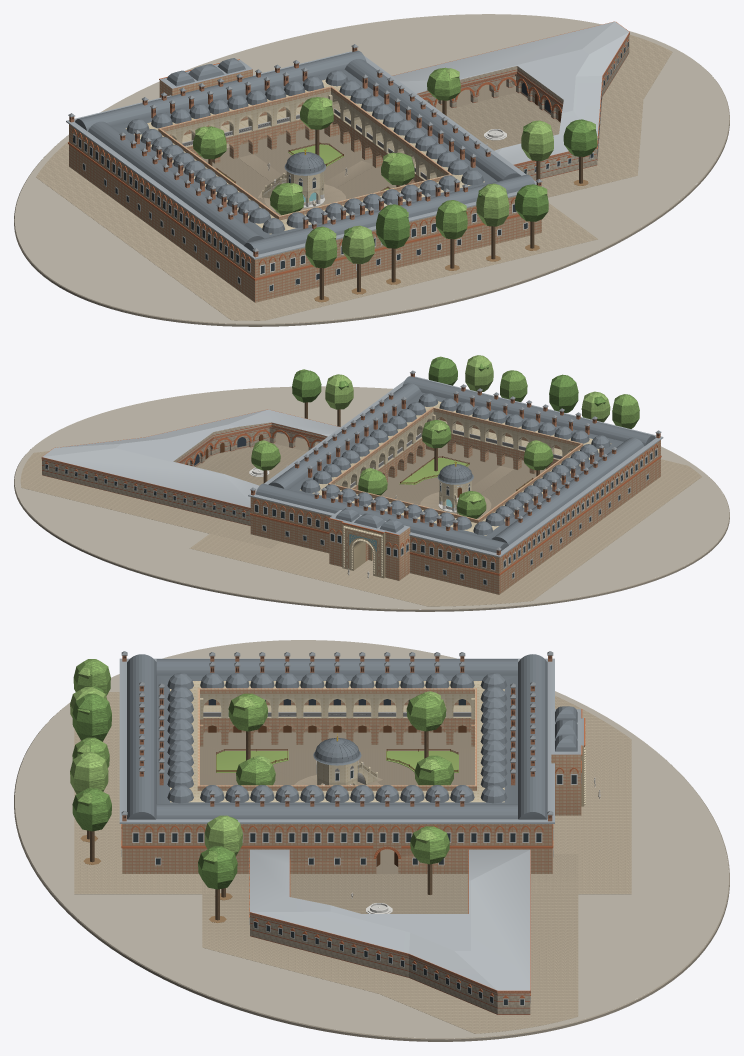
File: koza-han_v13_sunum.glb
3 renders of one model, top to bottom at view 1: azimuth 30°, elevation 25°; view 2: azimuth 150°, elevation 25°; view 3: azimuth 270°, elevation 25°, orthographic. The views are drawn at different scales.
Visible parts, largest first — view 1: Zemin_Kaide, Cevre_Doseme, Cati, Govde_Dis, Ic_Koza, Kubbe_Avlu, Avlu_Zemin, Avlu_Revak, Baca, Avlu_Agac, Cephe, Portal (+12 smaller); view 2: Zemin_Kaide, Cevre_Doseme, Ic_Koza, Cati, Govde_Dis, Kubbe_Avlu, Avlu_Zemin, Avlu_Revak, Portal, Baca, Avlu_Agac, Cephe (+12 smaller); view 3: Zemin_Kaide, Cevre_Doseme, Cati, Ic_Koza, Govde_Dis, Avlu_Zemin, Kubbe_Avlu, Avlu_Revak, Avlu_Agac, Baca, Cephe, Portal (+11 smaller).
Boxes of the visible parts, bbox=[...] form: Zemin_Kaide: bbox=[14, 14, 729, 326]; Cevre_Doseme: bbox=[36, 35, 672, 320]; Cati: bbox=[66, 50, 542, 259]; Govde_Dis: bbox=[69, 69, 541, 302]; Ic_Koza: bbox=[392, 21, 629, 180]; Kubbe_Avlu: bbox=[126, 70, 483, 233]; Avlu_Zemin: bbox=[201, 76, 560, 215]; Avlu_Revak: bbox=[125, 79, 484, 234]; Baca: bbox=[68, 44, 542, 257]; Avlu_Agac: bbox=[193, 67, 460, 215]; Cephe: bbox=[72, 92, 528, 291]; Portal: bbox=[159, 58, 252, 97]; Zemin_Kaide: bbox=[14, 386, 729, 611]; Cevre_Doseme: bbox=[20, 451, 701, 606]; Ic_Koza: bbox=[41, 409, 340, 525]; Cati: bbox=[248, 376, 663, 557]; Govde_Dis: bbox=[250, 392, 660, 594]; Kubbe_Avlu: bbox=[300, 393, 610, 535]; Avlu_Zemin: bbox=[195, 432, 545, 519]; Avlu_Revak: bbox=[300, 401, 611, 535]; Portal: bbox=[328, 508, 410, 580]; Baca: bbox=[250, 370, 661, 555]; Avlu_Agac: bbox=[251, 419, 553, 518]; Cephe: bbox=[253, 444, 657, 585]; Zemin_Kaide: bbox=[14, 640, 729, 1041]; Cevre_Doseme: bbox=[74, 692, 631, 1033]; Cati: bbox=[119, 654, 554, 823]; Ic_Koza: bbox=[249, 849, 530, 1014]; Govde_Dis: bbox=[122, 675, 552, 873]; Avlu_Zemin: bbox=[200, 732, 474, 913]; Kubbe_Avlu: bbox=[167, 672, 507, 803]; Avlu_Revak: bbox=[170, 681, 504, 802]; Avlu_Agac: bbox=[228, 691, 454, 894]; Baca: bbox=[121, 651, 553, 821]; Cephe: bbox=[121, 760, 581, 865]; Portal: bbox=[551, 706, 585, 815].
Size of the model in its own units: 158 by 16.92 by 120.
42 materials, 20 textured.
